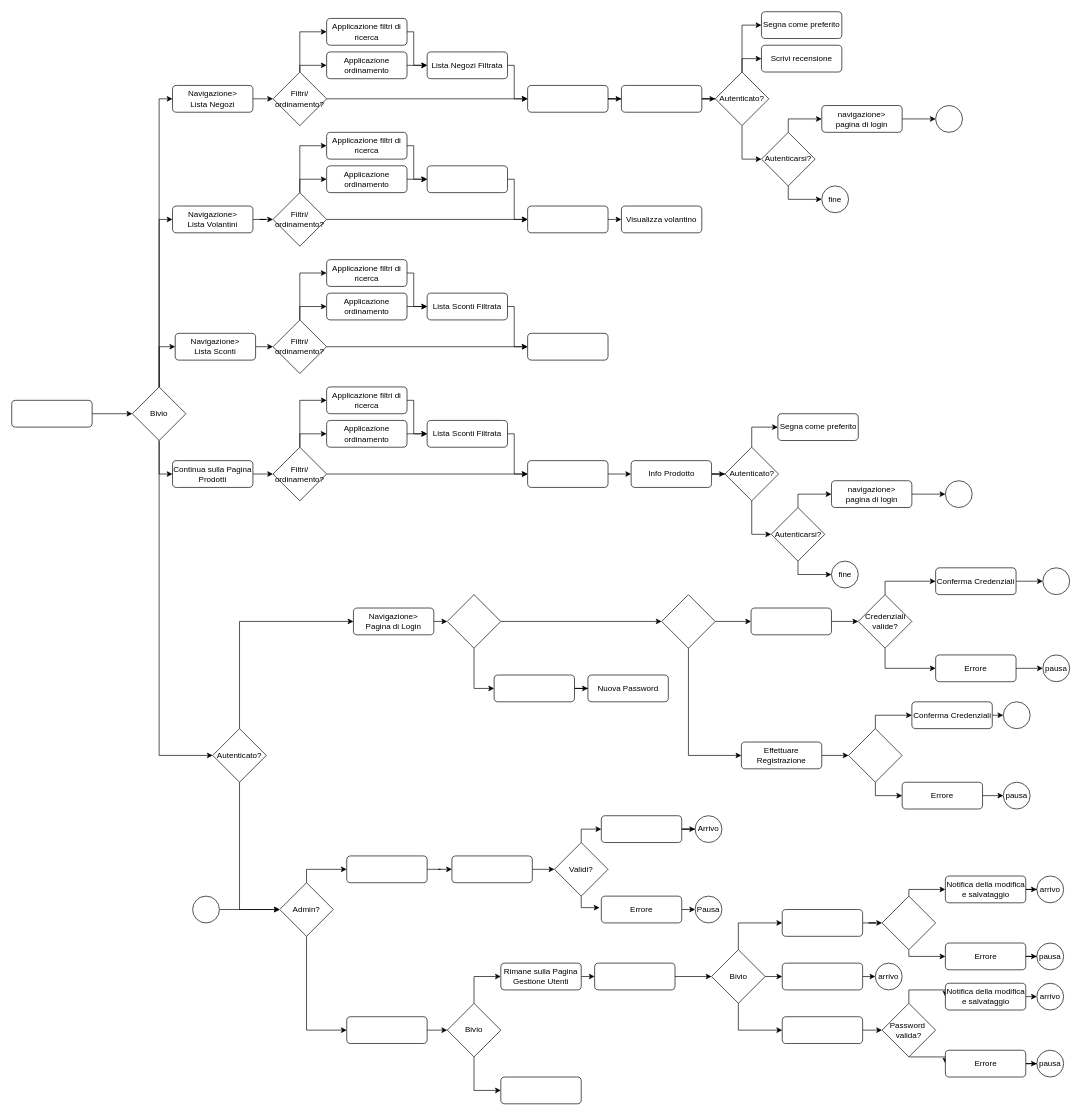
This 1081x1116 diagram has some shape labels left out. Here are the shapes that lost their labels. From the top down, the centre of each, then its label:
At pixel 567 98: "Selezione Negozio".
At pixel 661 98: "Info negozio".
At pixel 467 179: "Lista Volantini Filtrata".
At pixel 567 219: "Seleziona Volantino".
At pixel 567 346: "Visualizza Sconti".
At pixel 51 413: "Pagina Prodotti".
At pixel 567 473: "Seleziona prodotto".
At pixel 474 621: "Password Dimenticata?".
At pixel 688 621: "Registrazione?".
At pixel 790 621: "Inserimento credenziali".
At pixel 534 688: "Recupero Password".
At pixel 875 755: "Dati validi?".
At pixel 641 829: "Salvataggio modifica".
At pixel 386 869: "Navigazione> Pagina Utente".
At pixel 491 869: "Modifica Dati Personali".
At pixel 822 922: "Modifica Numero di telefono dell'utente".
At pixel 908 922: "Numero Valido?".
At pixel 634 976: "Identifica un utente".
At pixel 822 976: "Elimina Utente".
At pixel 386 1030: "Navigazione> Pagina Gestione Utenti".
At pixel 822 1030: "Modifica Password utente".
At pixel 540 1090: "Navigazione> Pagina Modera Recensioni".
